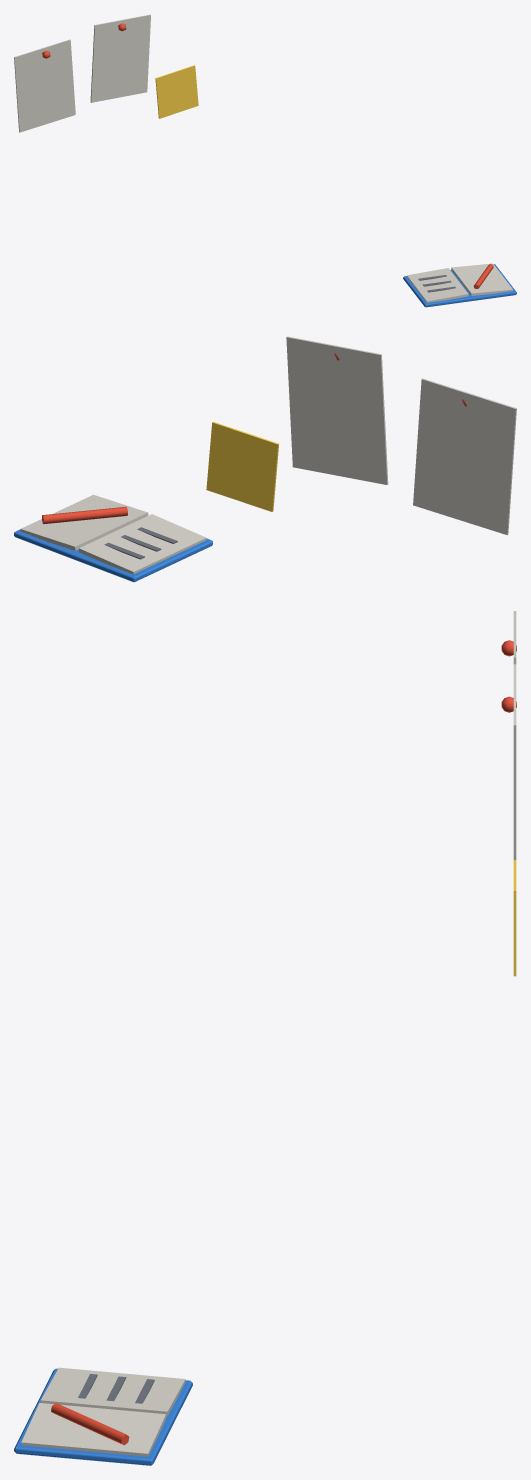
Rendered from station_intake_ausstattung_1_1.glb.
The picture shows the model from 3 angles, top to bottom: view 1: azimuth 30°, elevation 25°; view 2: azimuth 150°, elevation 25°; view 3: azimuth 270°, elevation 25°; orthographic projection. The views are drawn at different scales.
Parts seen in each view (by area): view 1: station_intake_ausstattung_1_1; view 2: station_intake_ausstattung_1_1; view 3: station_intake_ausstattung_1_1.
Boxes of the visible parts, x1,y1,x2,y2 form: station_intake_ausstattung_1_1: (14, 14, 516, 307); station_intake_ausstattung_1_1: (14, 336, 516, 582); station_intake_ausstattung_1_1: (14, 611, 516, 1465).
Size of the model in its own units: 1.39 by 0.8521 by 0.7759.
